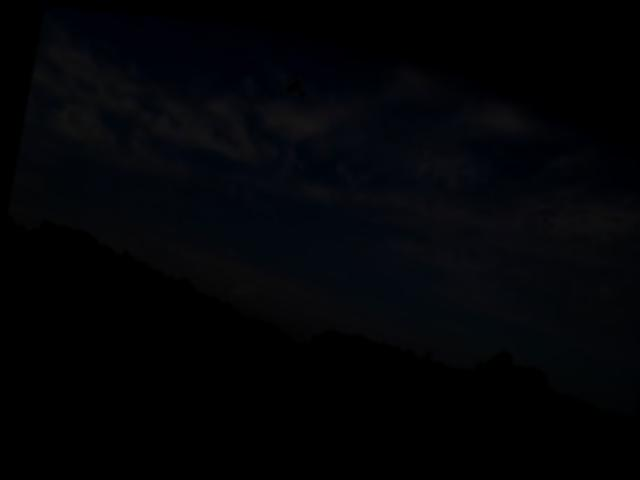uav: (280, 60, 312, 98)
